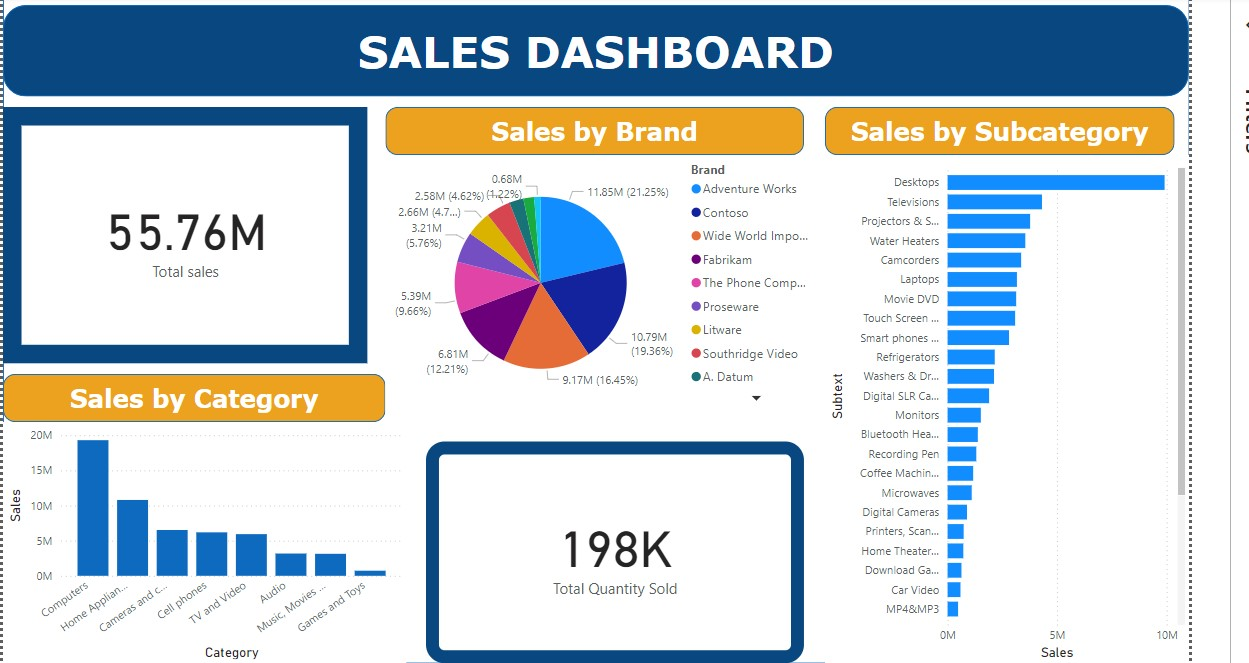

This screenshot's page, from the dashboard's own definition file:
{"tool":"powerbi","page":{"name":"sales_1","canvas":[1280,720],"ordinal":1},"visuals":[{"type":"shape","box":[0,0,1280.8,720.6],"z":0},{"type":"shape","box":[0,10,1280,98.8],"z":1000},{"type":"card","fields":{"Values":["dataspark sales.Total sales"]},"box":[0,119.8,393.5,276.9],"z":1001},{"type":"clusteredColumnChart","fields":{"Y":["dataspark sales.Sales by Category"],"Category":["dataspark products.Category"]},"box":[0,459.9,435.6,260.7],"z":1002},{"type":"barChart","fields":{"Category":["dataspark products.Subtext"],"Y":["dataspark sales.Sales by Category"]},"box":[887.3,171.6,393.5,548.9],"z":1003},{"type":"shape","box":[887.3,119.8,377.3,51.8],"z":1004},{"type":"shape","box":[0,408,412.9,51.8],"z":1005},{"type":"pieChart","fields":{"Category":["dataspark products.Brand"],"Y":["dataspark sales.Sales by Category"]},"box":[412.9,171.6,474.4,275.3],"z":1006},{"type":"shape","box":[412.9,119.8,451.8,51.8],"z":1007},{"type":"card","fields":{"Values":["dataspark sales.Total Quantity Sold"]},"box":[456.6,480.9,408,239.6],"z":1008}]}

Visuals, with their boxes on the page's 1280x720 design canvas (x1, y1, x2, y2). These are canvas units, not pixel positions in the 1249x663 screenshot, which may show the page scaled, cropped or inside an application window:
shape: (0, 0, 1281, 721)
shape: (0, 10, 1280, 109)
card - dataspark sales.Total sales: (0, 120, 394, 397)
clusteredColumnChart - dataspark sales.Sales by Category x dataspark products.Category: (0, 460, 436, 721)
barChart - dataspark products.Subtext x dataspark sales.Sales by Category: (887, 172, 1281, 720)
shape: (887, 120, 1265, 172)
shape: (0, 408, 413, 460)
pieChart - dataspark products.Brand x dataspark sales.Sales by Category: (413, 172, 887, 447)
shape: (413, 120, 865, 172)
card - dataspark sales.Total Quantity Sold: (457, 481, 865, 720)
